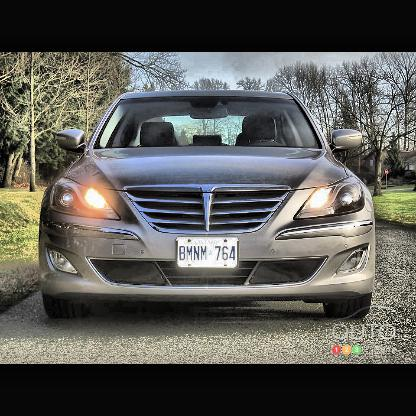Hyundai Genesis Sedan 2012: (41, 93, 376, 319)
